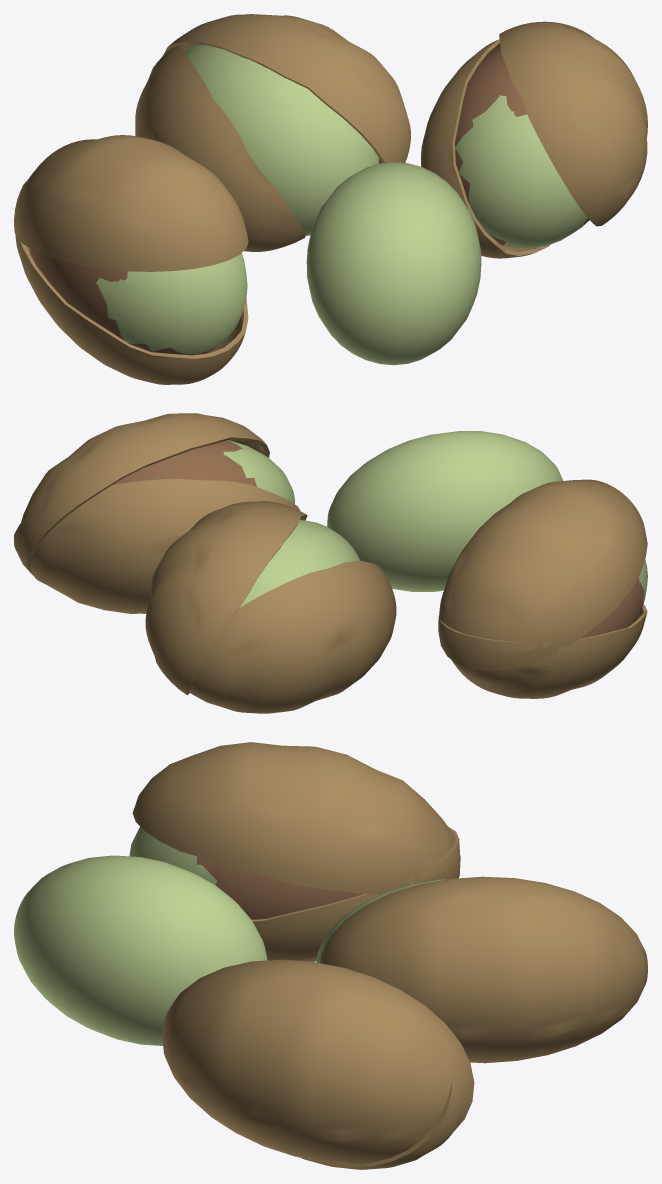
File: Pistachio_UV2 (1).fbx
The picture shows the model from 3 angles, top to bottom: view 1: azimuth 30°, elevation 25°; view 2: azimuth 150°, elevation 25°; view 3: azimuth 270°, elevation 25°; orthographic projection. The views are drawn at different scales.
Visible parts, largest first — view 1: Sphere017, Sphere002, Sphere014, Sphere006, Sphere016, Sphere005, Sphere003, Sphere007, Sphere004, Sphere015; view 2: Sphere002, Sphere017, Sphere007, Sphere015, Sphere005, Sphere014, Sphere004, Sphere016, Sphere006, Sphere003; view 3: Sphere014, Sphere005, Sphere002, Sphere017, Sphere003, Sphere004, Sphere015.
Part boxes in pixels (x1,y1,x2,y2): Sphere017: (306, 162, 481, 365); Sphere002: (14, 135, 248, 271); Sphere014: (499, 21, 647, 226); Sphere006: (184, 45, 379, 235); Sphere016: (455, 47, 589, 248); Sphere005: (163, 14, 410, 163); Sphere003: (29, 248, 247, 355); Sphere007: (135, 45, 305, 251); Sphere004: (14, 198, 248, 384); Sphere015: (421, 39, 550, 258); Sphere002: (438, 479, 647, 671); Sphere017: (327, 431, 563, 591); Sphere007: (188, 560, 396, 713); Sphere015: (14, 478, 300, 614); Sphere005: (145, 501, 307, 694); Sphere014: (20, 413, 269, 572); Sphere004: (438, 604, 647, 698); Sphere016: (113, 440, 294, 503); Sphere006: (239, 519, 359, 607); Sphere003: (581, 559, 647, 638); Sphere014: (162, 959, 474, 1164); Sphere005: (320, 876, 647, 1063); Sphere002: (132, 742, 460, 895); Sphere017: (14, 855, 267, 1045); Sphere003: (129, 826, 363, 919); Sphere004: (252, 827, 459, 961); Sphere015: (301, 973, 459, 1169).
Size of the model in its own units: 49.85 by 16.39 by 44.58.
